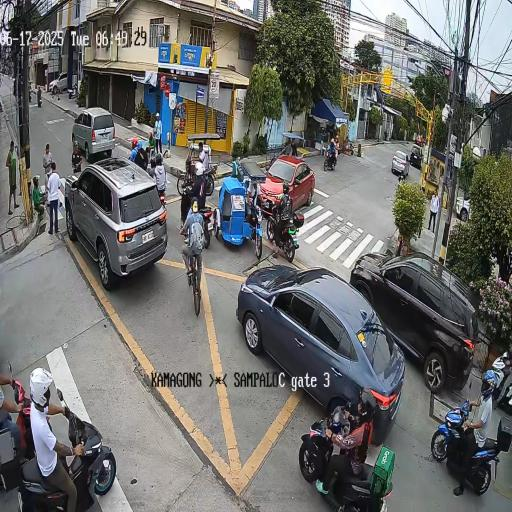Car: (224, 268, 403, 440), (354, 232, 479, 389), (59, 150, 171, 290), (254, 150, 342, 214), (64, 104, 126, 156), (388, 146, 410, 182)
Motor: (0, 339, 122, 512), (288, 392, 424, 512), (425, 372, 512, 512), (270, 182, 318, 258), (145, 142, 180, 218), (124, 124, 154, 179)
